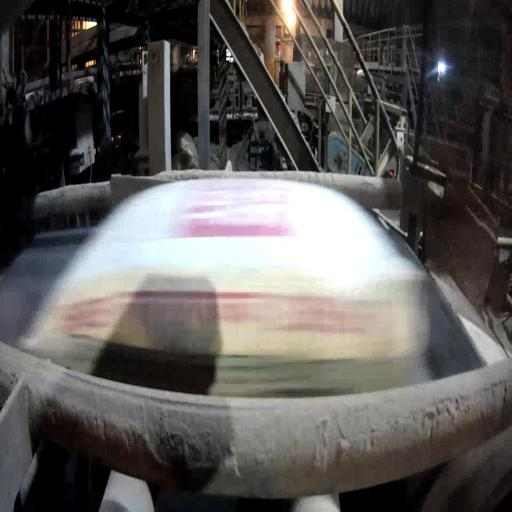c-belt-sack-count: (19, 179, 482, 396)
